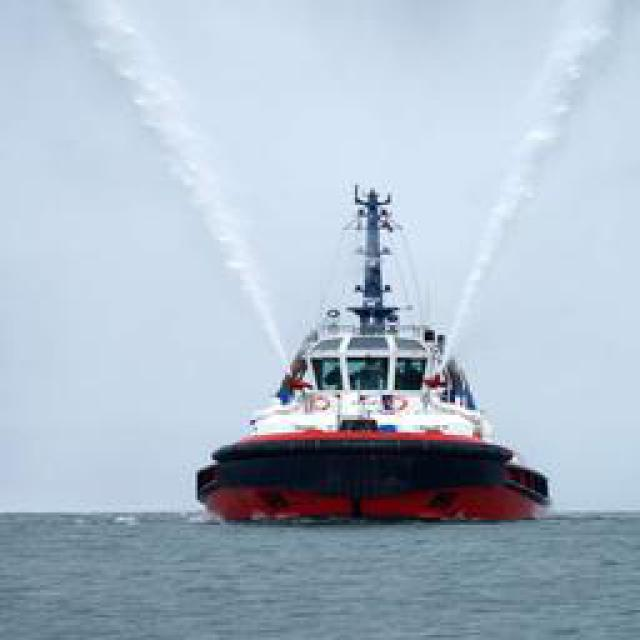Ship: (204, 177, 547, 527)
